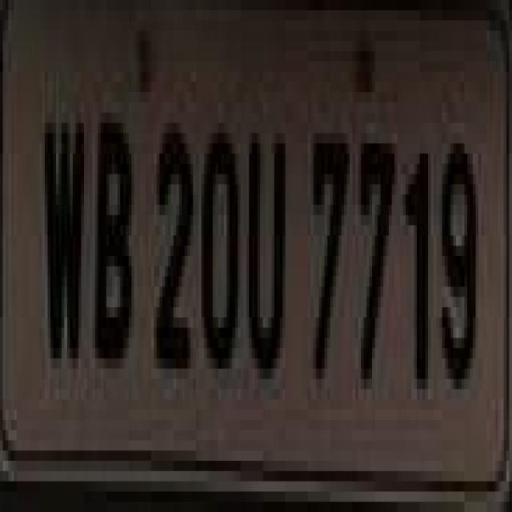number plate: (3, 10, 484, 481)
